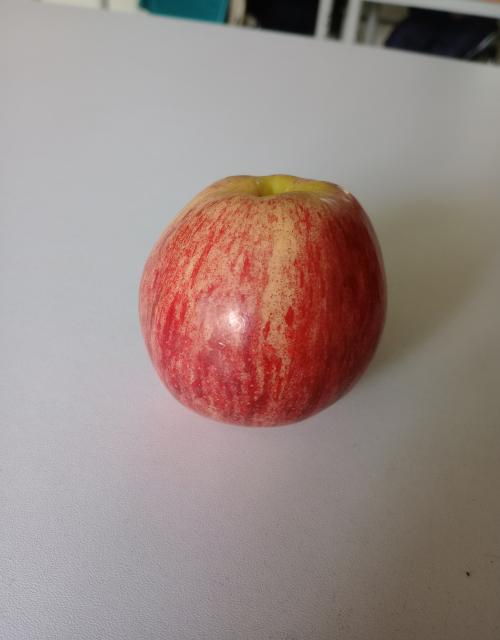Manzana: (126, 146, 408, 487)
